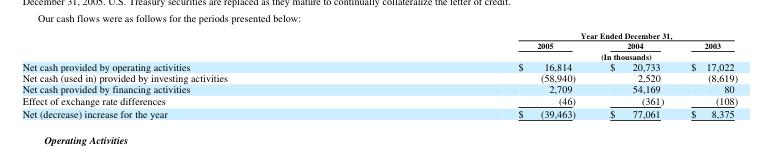table: (21, 29, 737, 119)
table column: (21, 29, 372, 119), (372, 29, 592, 119), (592, 29, 676, 119), (676, 29, 737, 119)
table column header: (21, 29, 737, 60)
table row: (21, 106, 737, 119), (21, 82, 737, 94), (21, 94, 737, 106), (21, 29, 737, 40), (21, 60, 737, 71), (21, 71, 737, 82), (21, 40, 737, 50), (21, 50, 737, 60)
table spanning cell: (372, 29, 737, 40), (372, 50, 737, 60)
